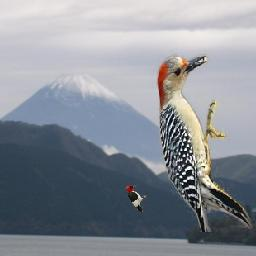Woodpecker: (144, 48, 254, 233), (125, 185, 147, 214)
